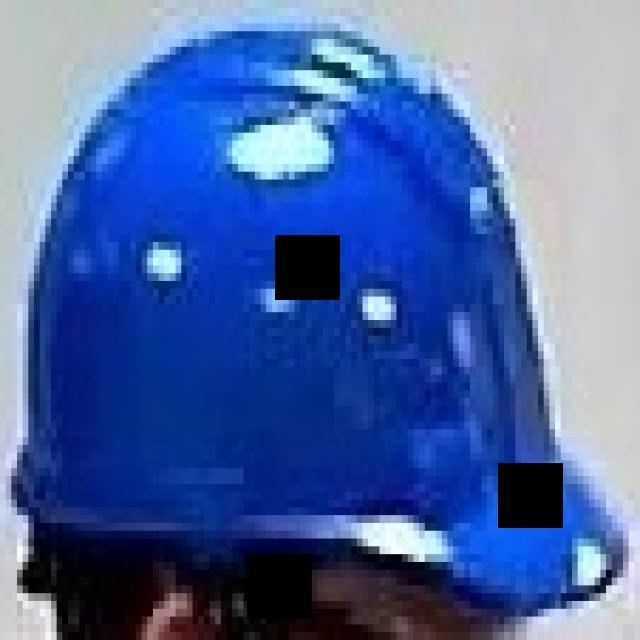blue helmet: (1, 11, 640, 617)
